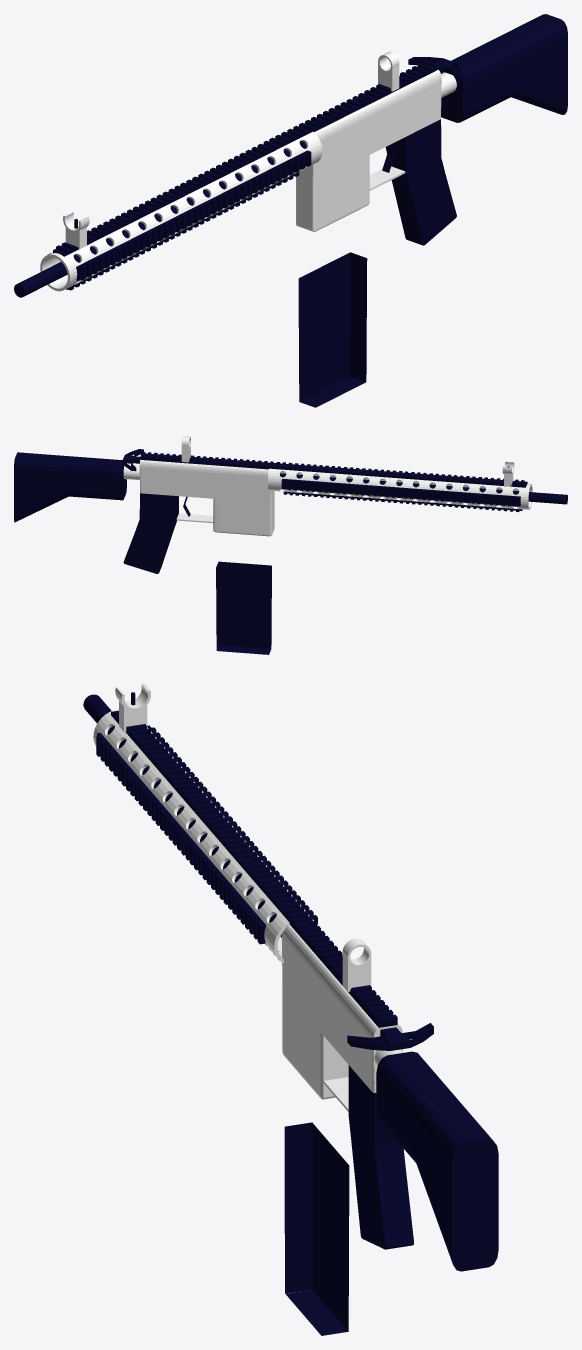
File: stoner0016.obj
3 renders of one model, top to bottom at view 1: azimuth 30°, elevation 25°; view 2: azimuth 150°, elevation 25°; view 3: azimuth 270°, elevation 25°, orthographic. The views are drawn at different scales.
Visible parts, largest first — view 1: mag, shoulderStock, upperReceiver, rearPistolGrip, picatinyRail, handGuard, picatinyRailLeft, magWell, barrel, picatinyRailBottom, handle; view 2: shoulderStock, mag, upperReceiver, handGuard, rearPistolGrip, picatinyRail, picatinyRailRight, magWell, barrel, picatinyRailBottom, lowerTriggerGuard; view 3: shoulderStock, mag, picatinyRail, rearPistolGrip, upperReceiver, handGuard, picatinyRailLeft, magWell, picatinyRailRight, handle, barrel.
Part boxes in pixels (x1,y1,x2,y2): mag: [298, 252, 367, 407]; shoulderStock: [441, 14, 567, 122]; upperReceiver: [296, 70, 441, 182]; rearPistolGrip: [391, 119, 456, 245]; picatinyRail: [53, 60, 437, 256]; handGuard: [40, 131, 322, 291]; picatinyRailLeft: [76, 150, 311, 280]; magWell: [296, 155, 369, 231]; barrel: [14, 141, 306, 297]; picatinyRailBottom: [66, 172, 299, 290]; handle: [408, 57, 463, 82]; shoulderStock: [14, 452, 126, 522]; mag: [216, 561, 271, 654]; upperReceiver: [139, 459, 274, 502]; handGuard: [267, 468, 532, 509]; rearPistolGrip: [123, 493, 178, 573]; picatinyRail: [140, 452, 527, 487]; picatinyRailRight: [281, 478, 520, 506]; magWell: [213, 497, 274, 536]; barrel: [280, 473, 567, 504]; picatinyRailBottom: [283, 491, 522, 512]; lowerTriggerGuard: [176, 513, 213, 523]; shoulderStock: [376, 1051, 498, 1271]; mag: [284, 1122, 349, 1335]; picatinyRail: [111, 710, 397, 1027]; rearPistolGrip: [348, 1065, 413, 1249]; upperReceiver: [281, 924, 402, 1092]; handGuard: [93, 709, 321, 963]; picatinyRailLeft: [96, 733, 266, 944]; magWell: [282, 988, 348, 1099]; picatinyRailRight: [147, 725, 317, 924]; handle: [347, 1023, 433, 1050]; barrel: [83, 694, 281, 937].
Bounding box in the file's own units: 8.56 × 3.71 × 3.34.
